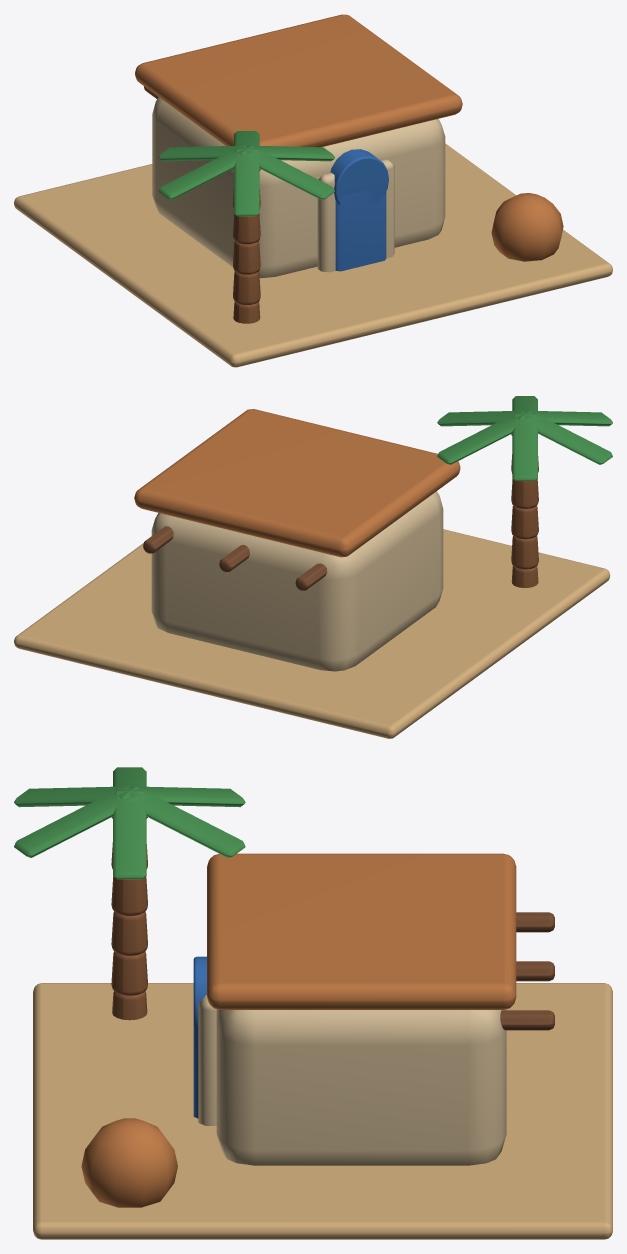
The picture shows the model from 3 angles, top to bottom: view 1: azimuth 30°, elevation 25°; view 2: azimuth 150°, elevation 25°; view 3: azimuth 270°, elevation 25°; orthographic projection. The views are drawn at different scales.
Parts seen in each view (by area): view 1: Cube; view 2: Cube; view 3: Cube.
Part boxes in pixels (x1,y1,x2,y2): Cube: [14, 14, 612, 367]; Cube: [14, 396, 612, 738]; Cube: [14, 767, 612, 1239].
Bounding box in the file's own units: 0.651 × 0.2732 × 0.6198.
